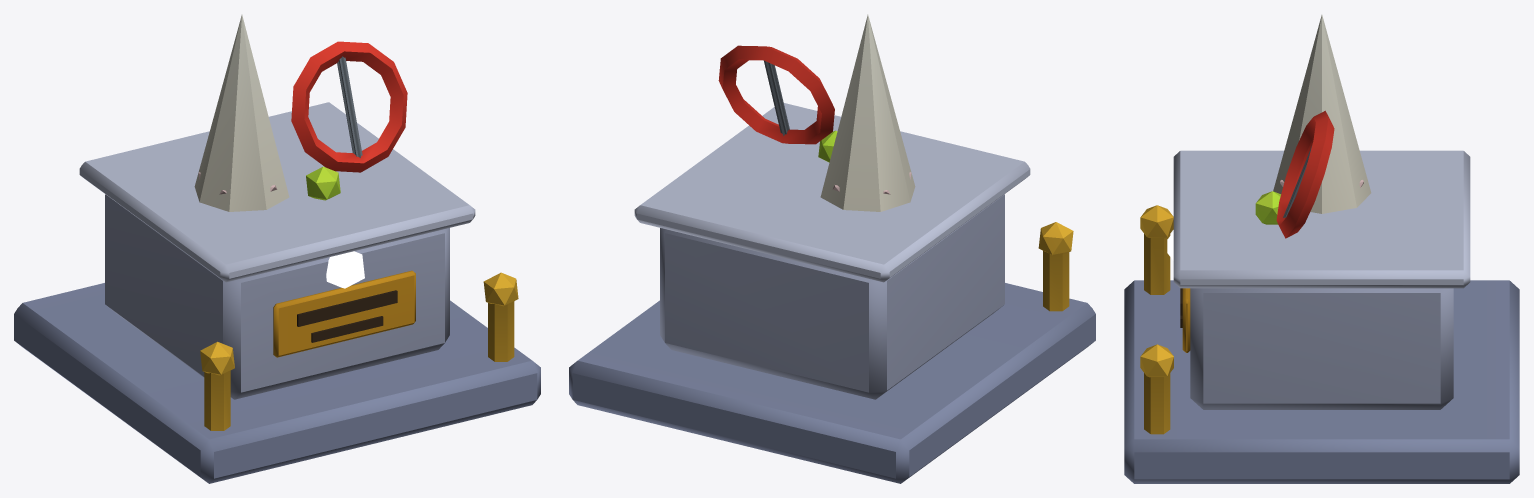
Rendered from b_trophy_schlund.glb.
3 renders of one model, left to right at view 1: azimuth 30°, elevation 25°; view 2: azimuth 150°, elevation 25°; view 3: azimuth 270°, elevation 25°, orthographic.
Parts seen in each view (by area): view 1: body, pulse_gem_glow; view 2: body; view 3: body.
Part boxes in pixels (<box>): body: <box>14,14,540,483</box>; pulse_gem_glow: <box>326,251,364,288</box>; body: <box>569,14,1095,483</box>; body: <box>1124,15,1519,483</box>.
Bounding box in the file's own units: 2.4 × 2.5 × 2.4.
